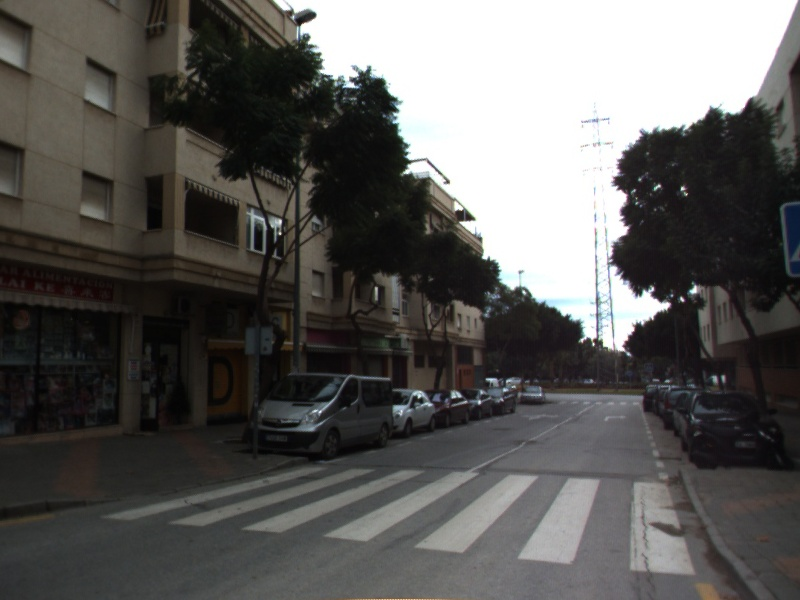RIGHT: (602, 412, 628, 423)
